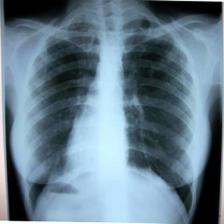tuberculosis: (14, 11, 199, 224)
